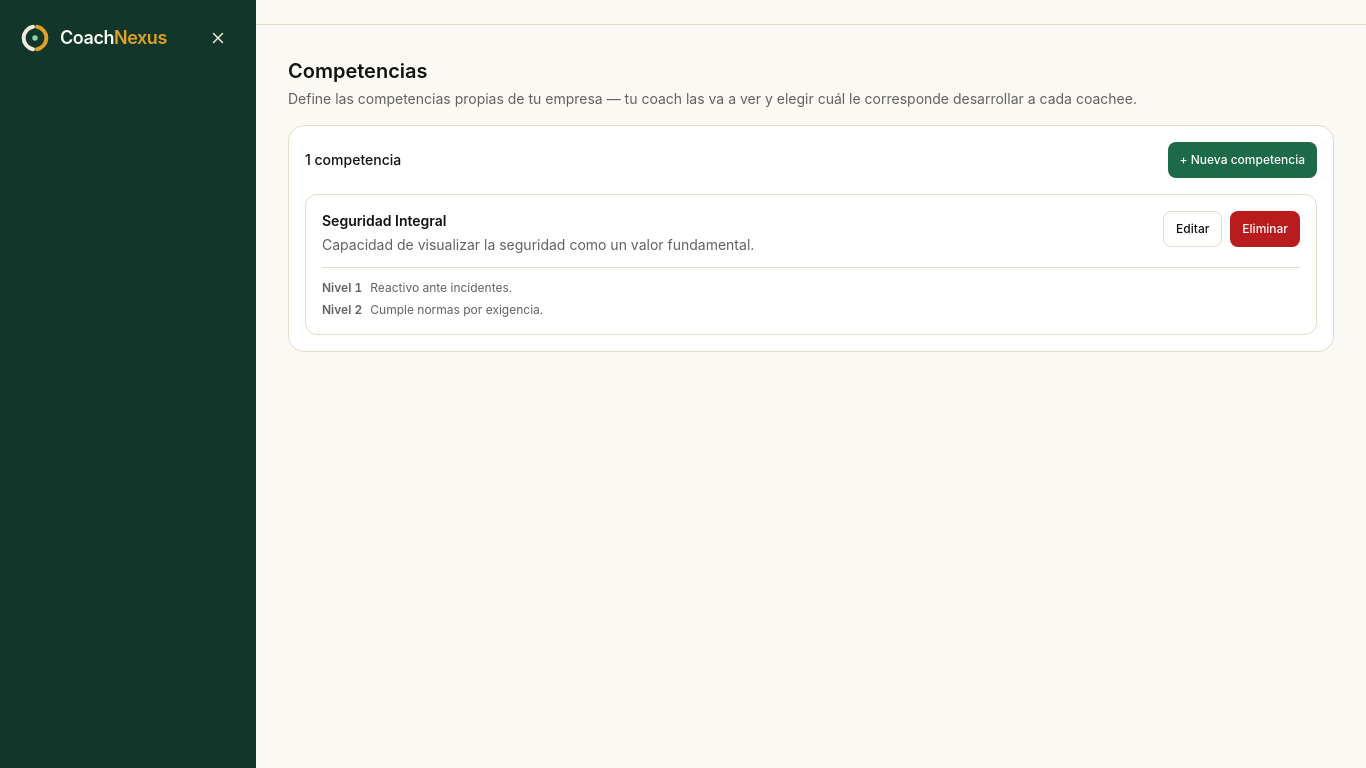
Test case: CompetenciasView (empresa) › creates a competencia with its niveles
Click the button "+ Nueva competencia" at (1242, 160), box x1=1168 y1=142 x2=1317 y2=178
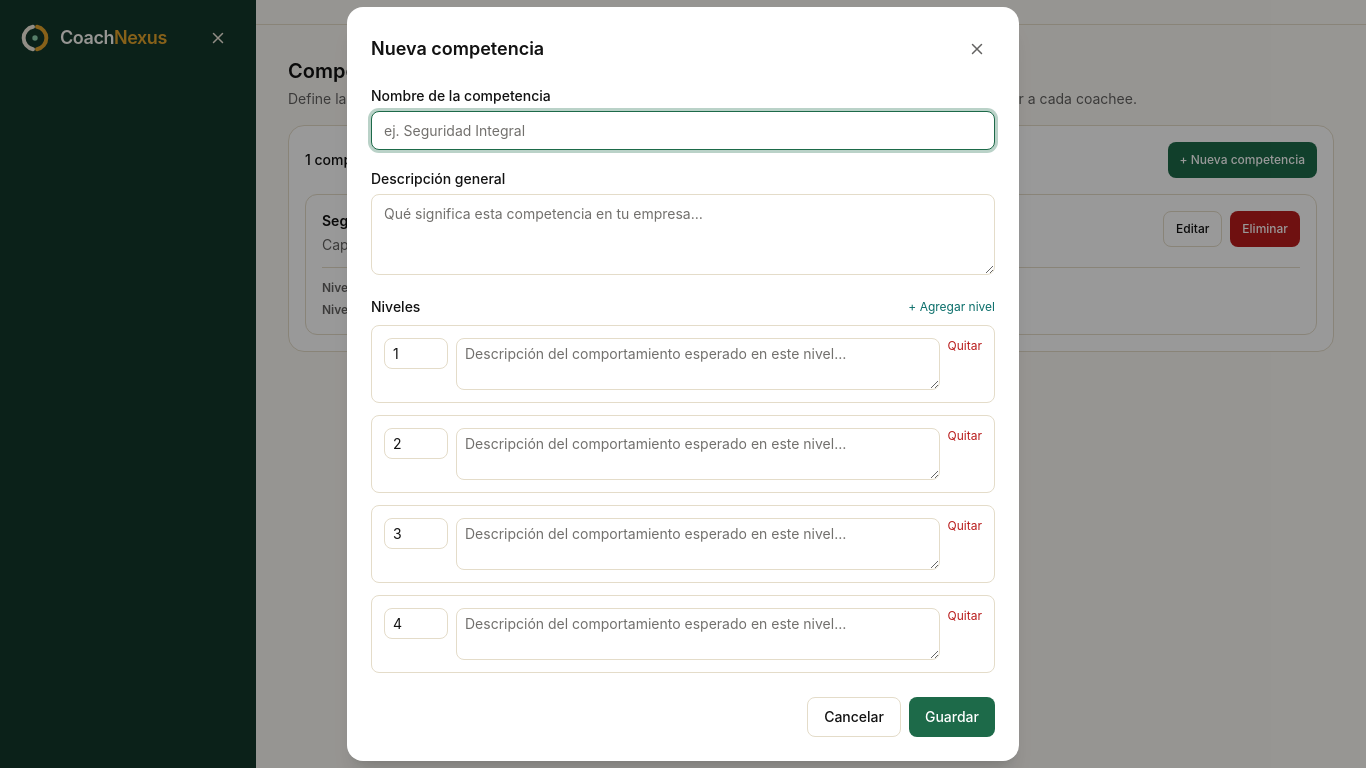
Type "Liderazgo" into the field labelled "Nombre de la competencia" at (683, 130), box x1=371 y1=111 x2=995 y2=150
Type "Definición de liderazgo" into the text box labelled "Descripción general" at (683, 234), box x1=371 y1=194 x2=995 y2=275
Type "Descripción del nivel" into the 1st text box with placeholder "Descripción del comportamiento esperado en este nivel…" at (698, 364), box x1=456 y1=338 x2=940 y2=390
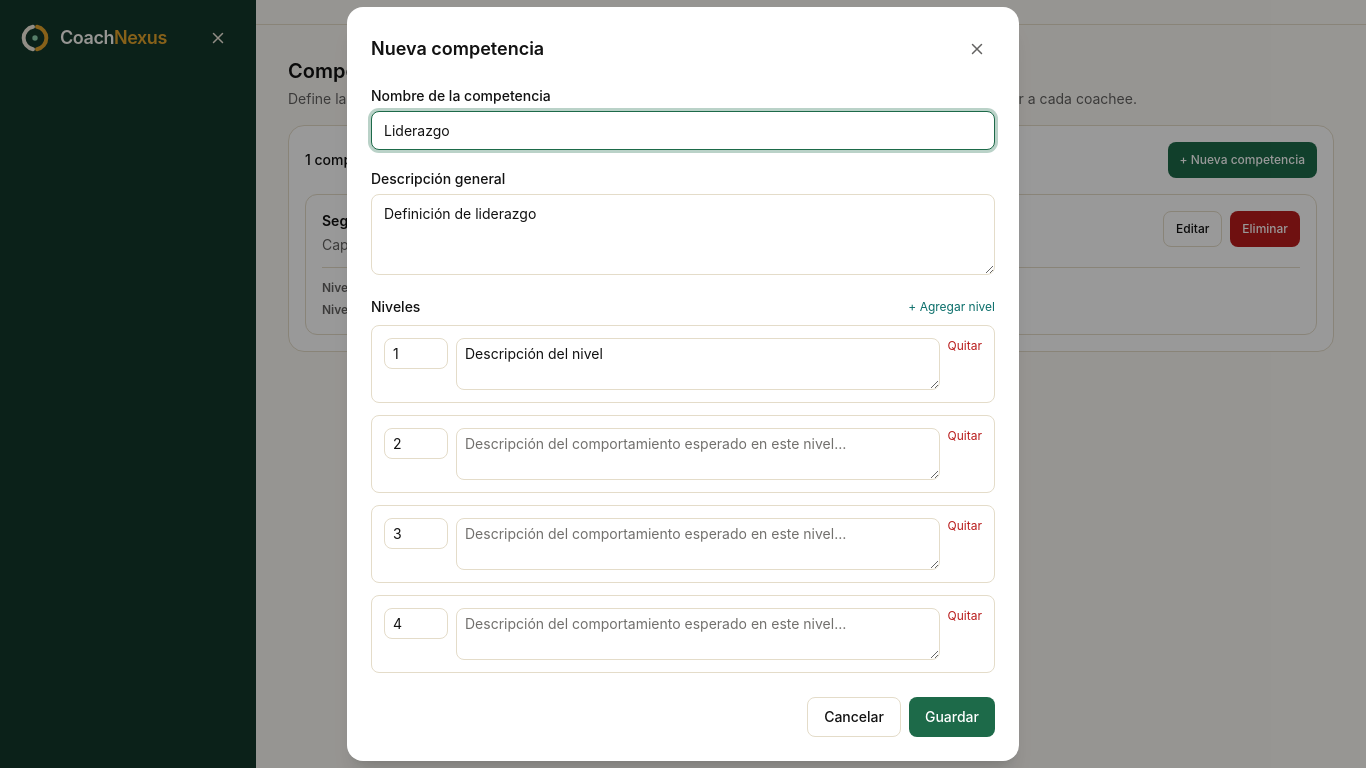
Type "Descripción del nivel" into the 1st text box with placeholder "Descripción del comportamiento esperado en este nivel…" at (698, 454), box x1=456 y1=428 x2=940 y2=480
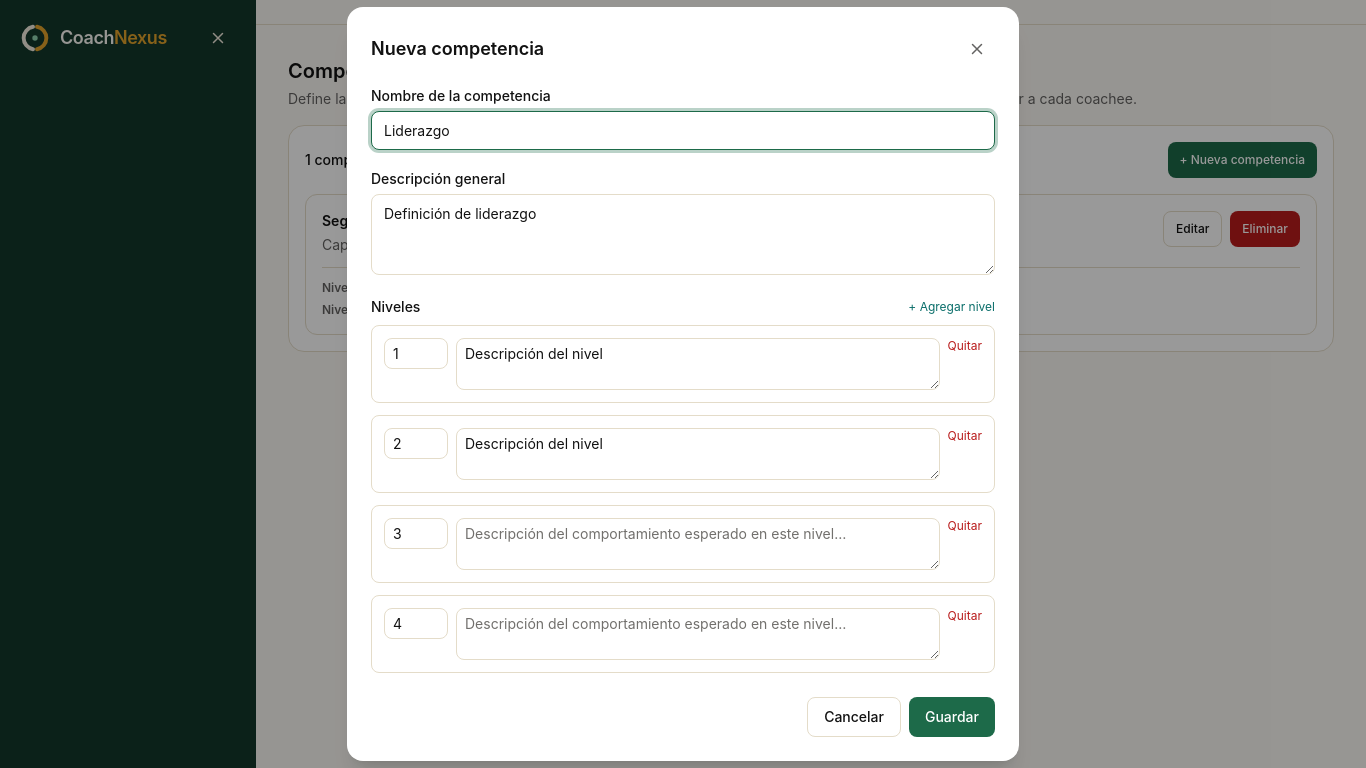
Type "Descripción del nivel" into the 1st text box with placeholder "Descripción del comportamiento esperado en este nivel…" at (698, 544), box x1=456 y1=518 x2=940 y2=570
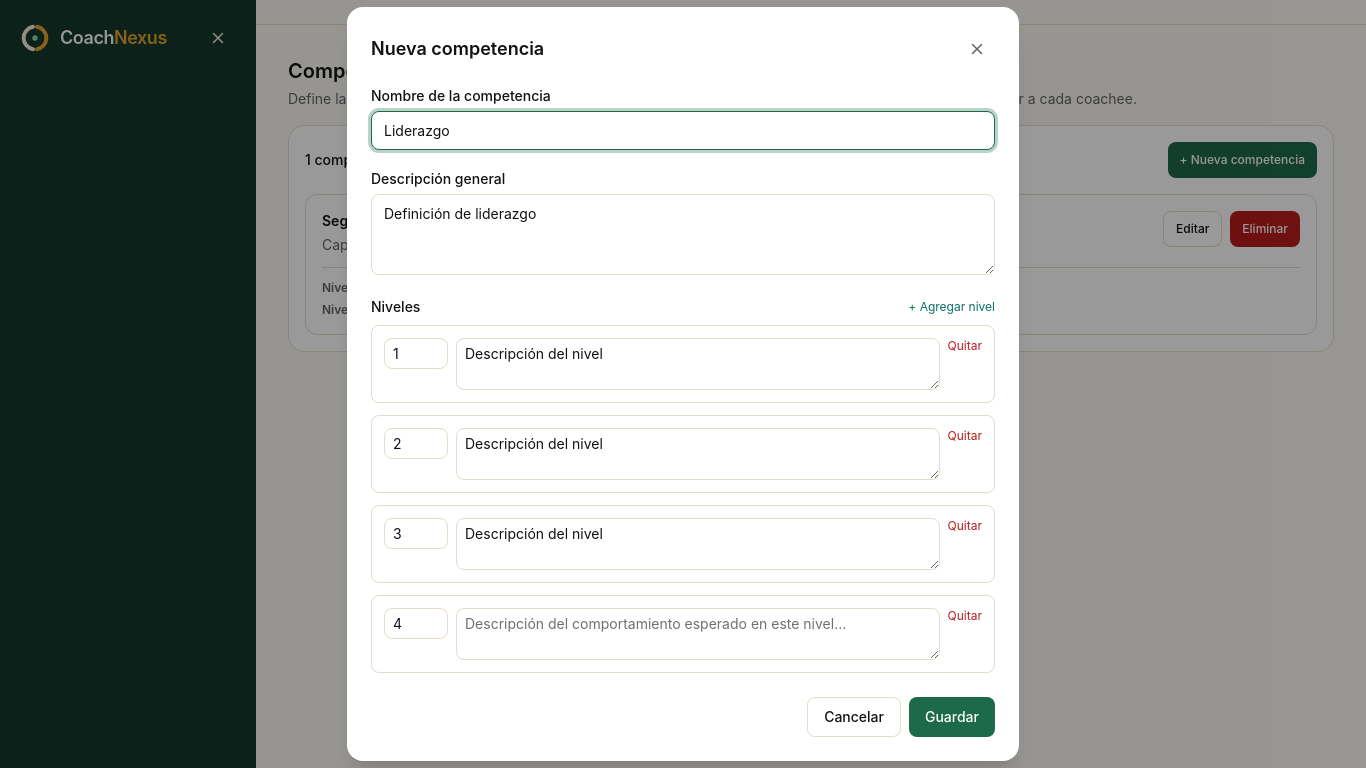
Type "Descripción del nivel" into the text box with placeholder "Descripción del comportamiento esperado en este nivel…" at (698, 634), box x1=456 y1=608 x2=940 y2=660
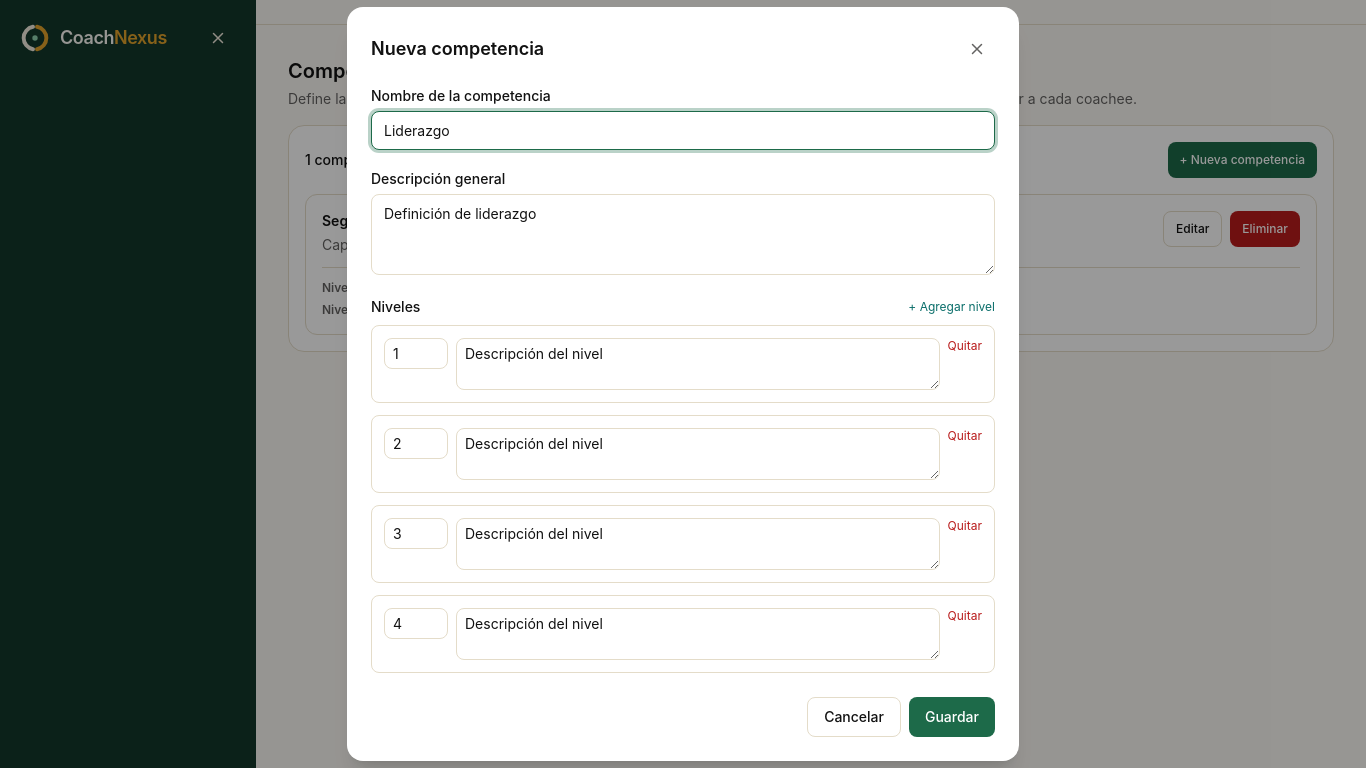
Submit the form, box x1=371 y1=83 x2=995 y2=737
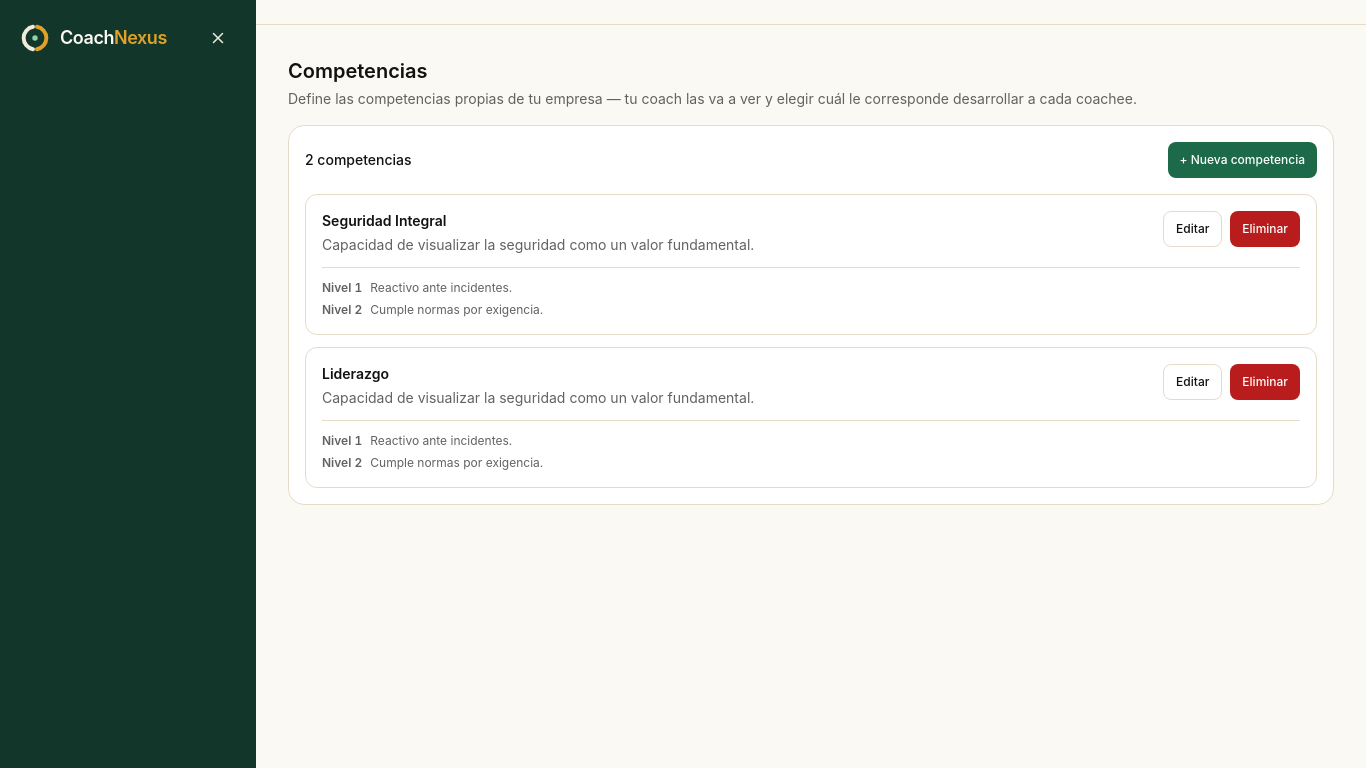
Result: the text "Liderazgo" is shown at x1=322 y1=365 x2=389 y2=382
